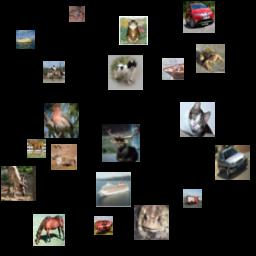airplane: (94, 216, 113, 235)
automobile: (215, 145, 250, 180), (183, 1, 215, 33)
bird: (44, 103, 79, 138)
cat: (180, 102, 215, 137), (119, 16, 148, 45)
deer: (102, 124, 140, 162), (1, 166, 36, 201), (51, 144, 77, 170)
dog: (108, 55, 143, 90)
frog: (134, 205, 169, 240), (196, 44, 225, 73), (69, 6, 85, 22)
ship: (96, 172, 131, 207), (162, 58, 184, 80), (16, 30, 35, 49)
truck: (183, 189, 202, 208)
